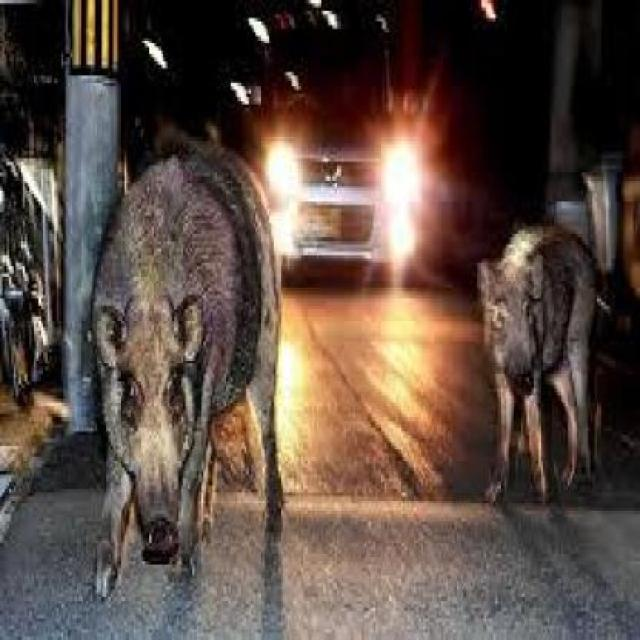wildboar: (87, 137, 285, 609), (478, 223, 613, 506)
